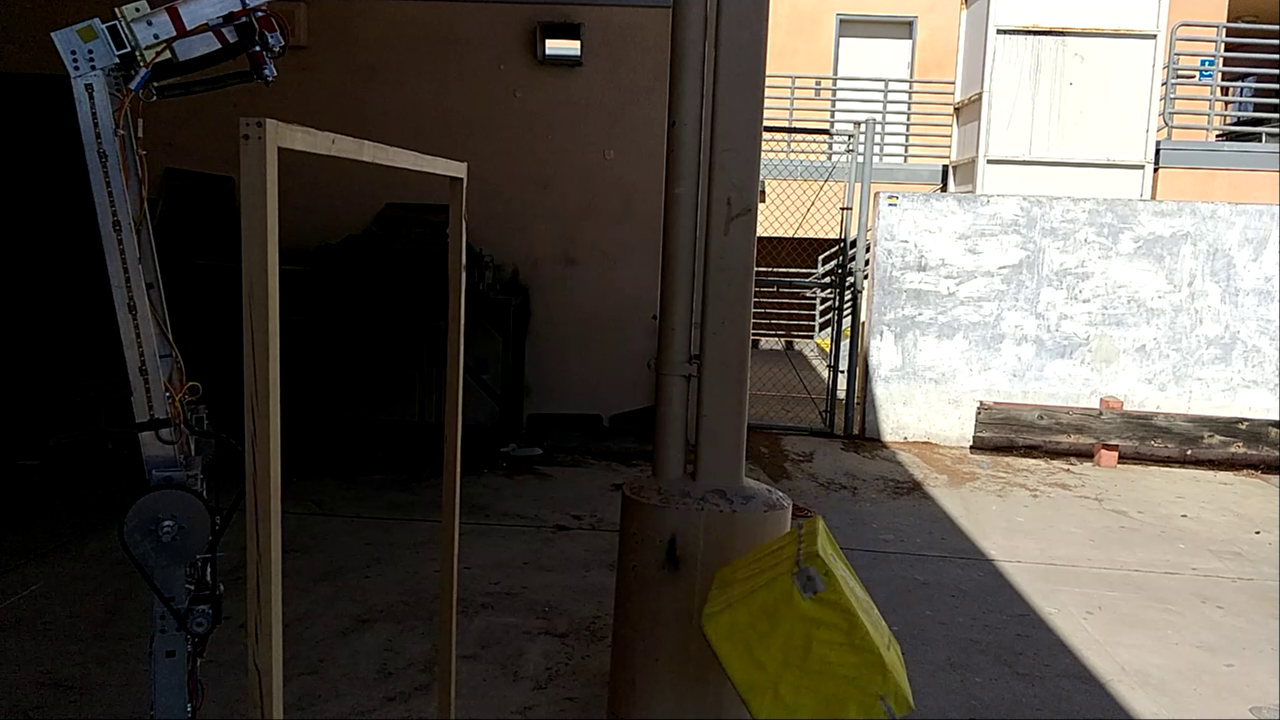cube: (697, 515, 918, 720)
